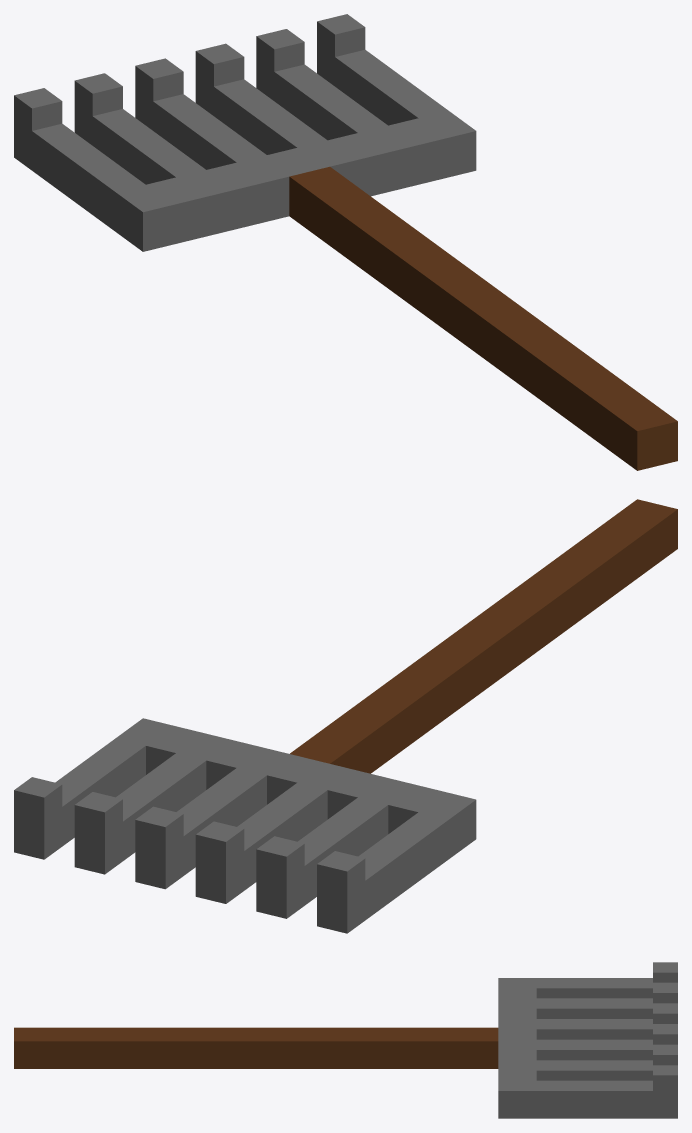
Rendered from rastrell.fbx.
The picture shows the model from 3 angles, top to bottom: view 1: azimuth 30°, elevation 25°; view 2: azimuth 150°, elevation 25°; view 3: azimuth 270°, elevation 25°; orthographic projection. The views are drawn at different scales.
Parts seen in each view (by area): view 1: rastrell; view 2: rastrell; view 3: rastrell.
Part boxes in pixels (bbox=[...]): rastrell: bbox=[14, 14, 677, 470]; rastrell: bbox=[14, 499, 677, 933]; rastrell: bbox=[14, 962, 677, 1118].
Size of the model in its own units: 111 by 19.72 by 274.
